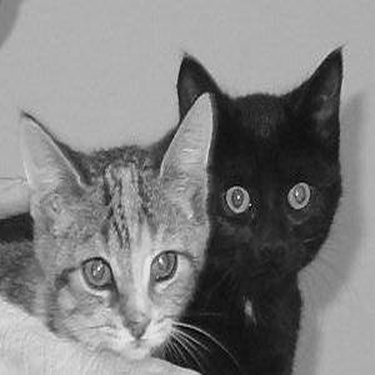cat: (139, 27, 361, 367), (1, 76, 213, 362)
